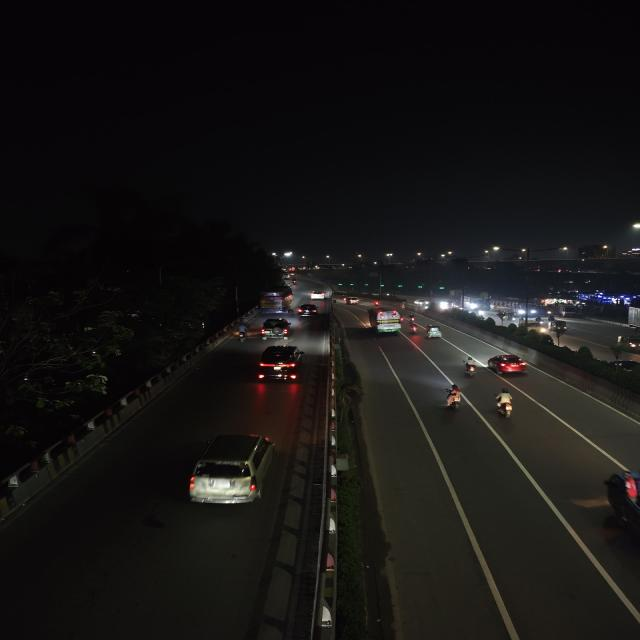bus: (366, 308, 402, 334), (257, 290, 291, 316), (497, 299, 542, 318), (464, 297, 486, 311)
car: (181, 430, 280, 514), (254, 343, 304, 380), (485, 351, 529, 377), (258, 317, 294, 338), (297, 303, 320, 317), (309, 289, 331, 301), (342, 296, 359, 305)
cng: (613, 331, 640, 353), (549, 319, 569, 335), (425, 324, 443, 340)
motorcycle: (490, 388, 519, 422), (440, 383, 466, 413), (460, 357, 481, 381), (233, 323, 250, 343), (407, 318, 419, 334)
truck: (555, 304, 578, 318)
